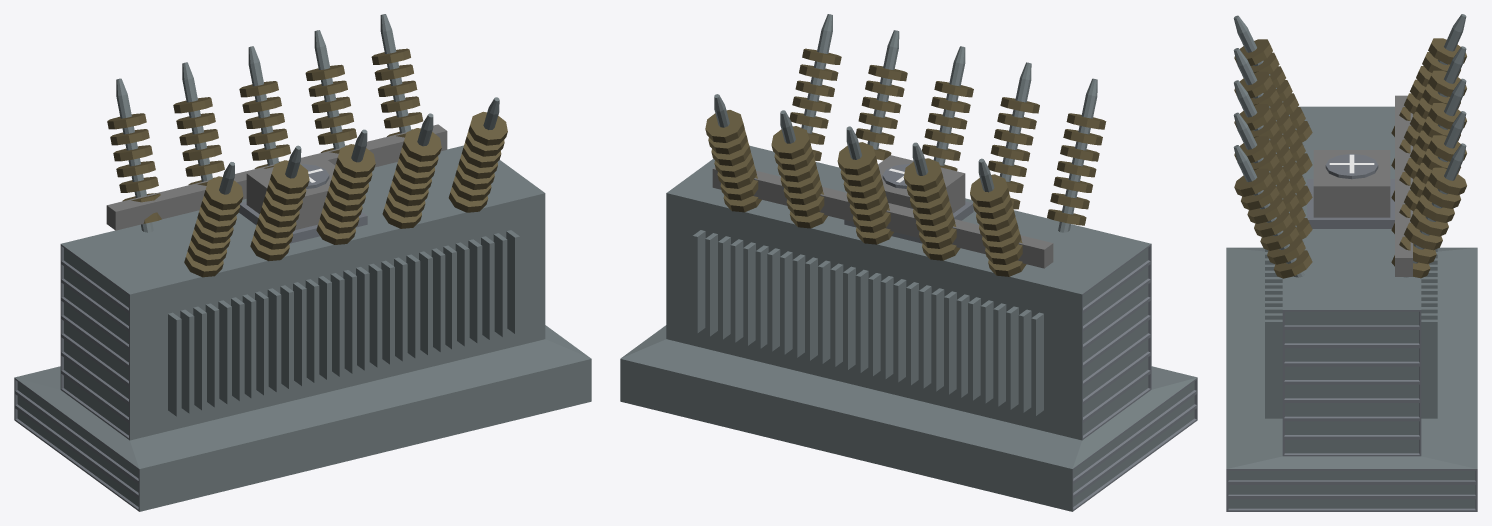
Rendered from site_regulator_close.fbx.
The picture shows the model from 3 angles, left to right: view 1: azimuth 30°, elevation 25°; view 2: azimuth 150°, elevation 25°; view 3: azimuth 270°, elevation 25°; orthographic projection.
Visible parts, largest first — view 1: a1062/0/site_regulator_close; view 2: a1062/0/site_regulator_close; view 3: a1062/0/site_regulator_close.
Boxes of the visible parts, x1,y1,x2,y2 form: a1062/0/site_regulator_close: (14, 14, 591, 511); a1062/0/site_regulator_close: (620, 14, 1197, 511); a1062/0/site_regulator_close: (1226, 14, 1477, 511).
Bounding box in the file's own units: 7.54 × 5.15 × 3.61.
